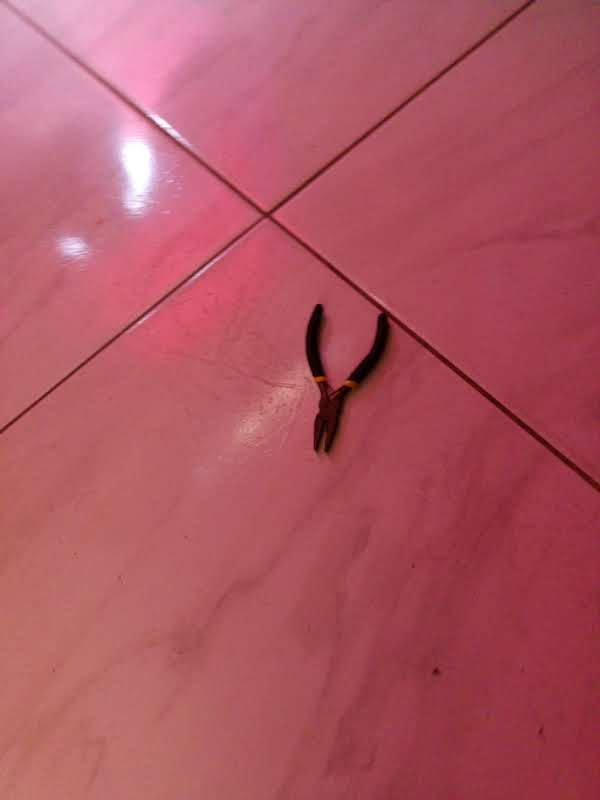Pinzas: (305, 304, 391, 449)
